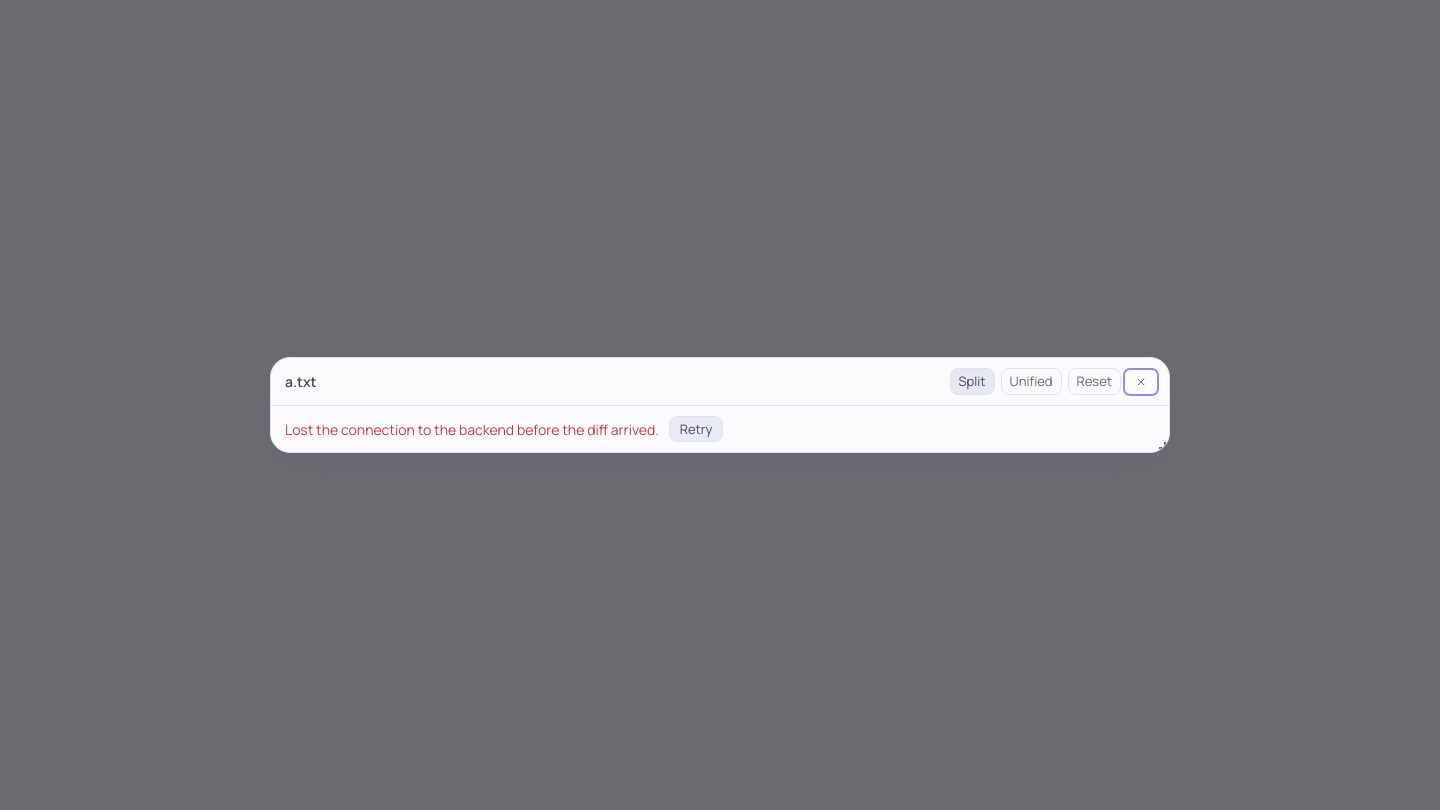
Test: GitDiffViewer failure states › retry recovers a paused query, which refetch alone cannot
This screenshot has width=1440, height=810.
Click the button "Retry": (696, 429) x1=669 y1=416 x2=723 y2=442
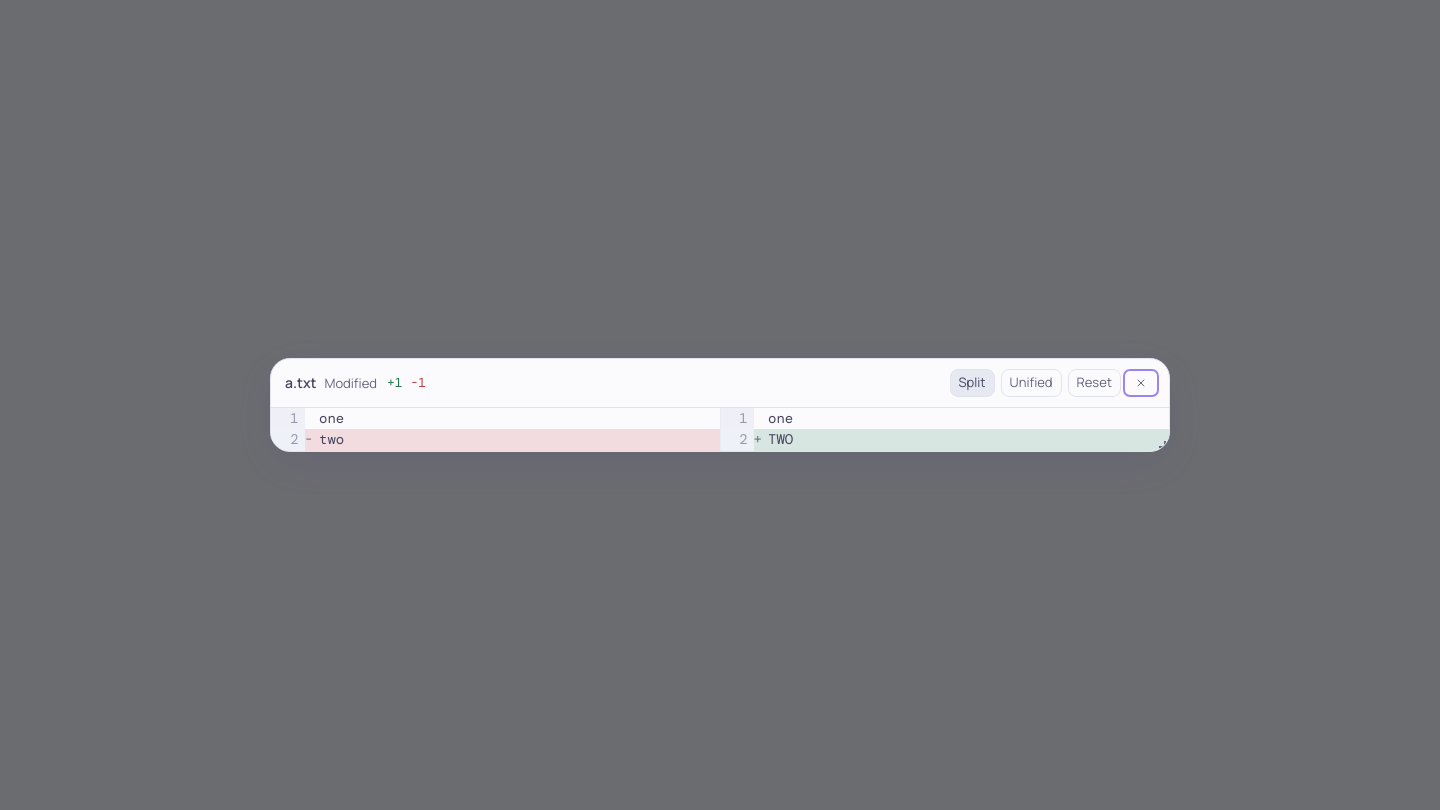
Now the element with class "git-diff-grid" is shown, box x1=271 y1=408 x2=1169 y2=451
Now the text "two" is shown, box x1=319 y1=430 x2=344 y2=448
Now the button "Retry" is gone
